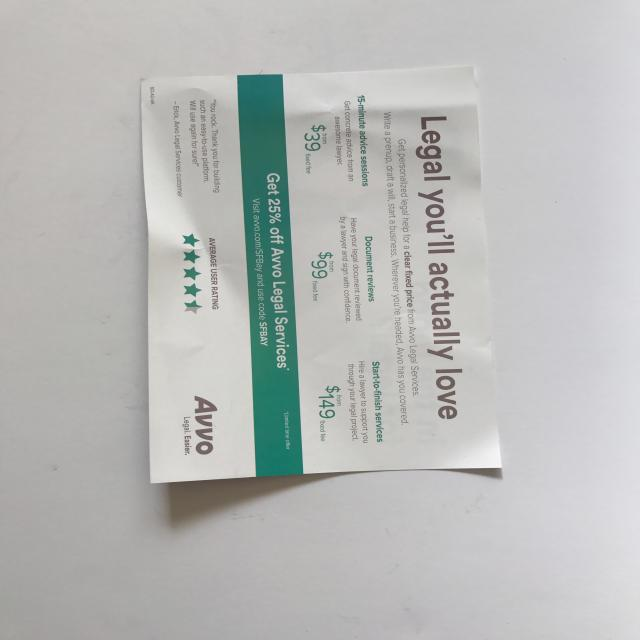Paper: (103, 61, 538, 499)
